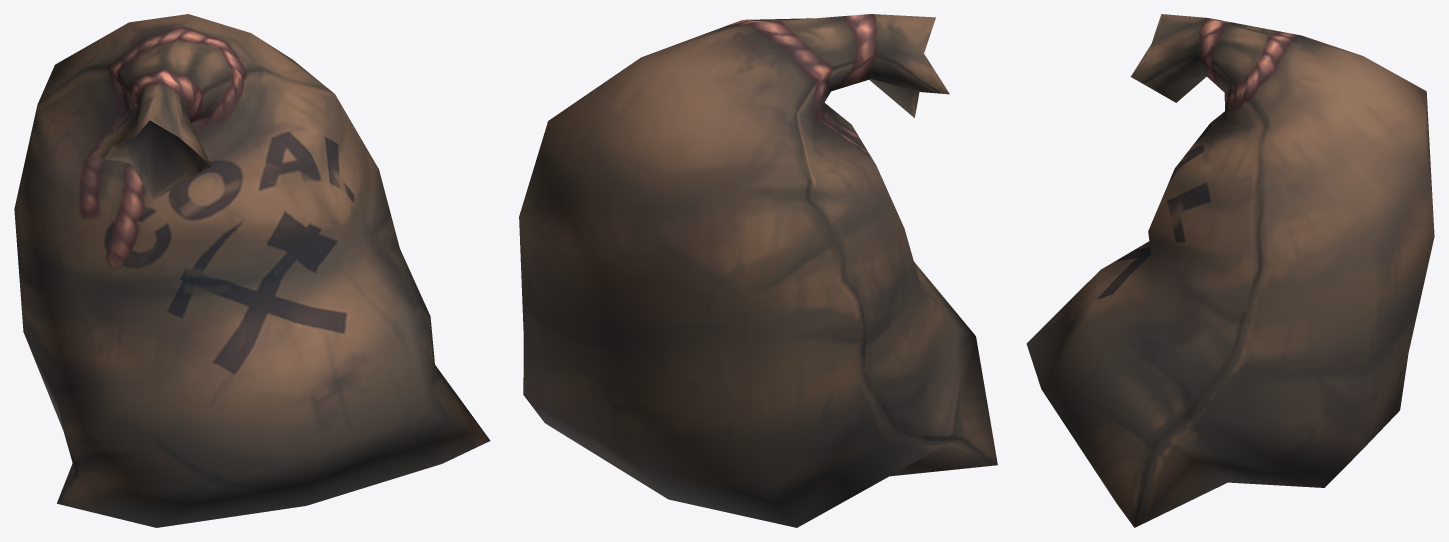
Rendered from sack_of_coal_large1.fbx.
3 renders of one model, left to right at view 1: azimuth 30°, elevation 25°; view 2: azimuth 150°, elevation 25°; view 3: azimuth 270°, elevation 25°, orthographic. The views are drawn at different scales.
Parts seen in each view (by area): view 1: sack_of_coal_large1; view 2: sack_of_coal_large1; view 3: sack_of_coal_large1.
Part boxes in pixels (x1,y1,x2,y2): sack_of_coal_large1: [14, 14, 490, 527]; sack_of_coal_large1: [519, 14, 997, 527]; sack_of_coal_large1: [1026, 14, 1434, 527].
Bounding box in the file's own units: 94.01 × 94.01 × 88.45.
